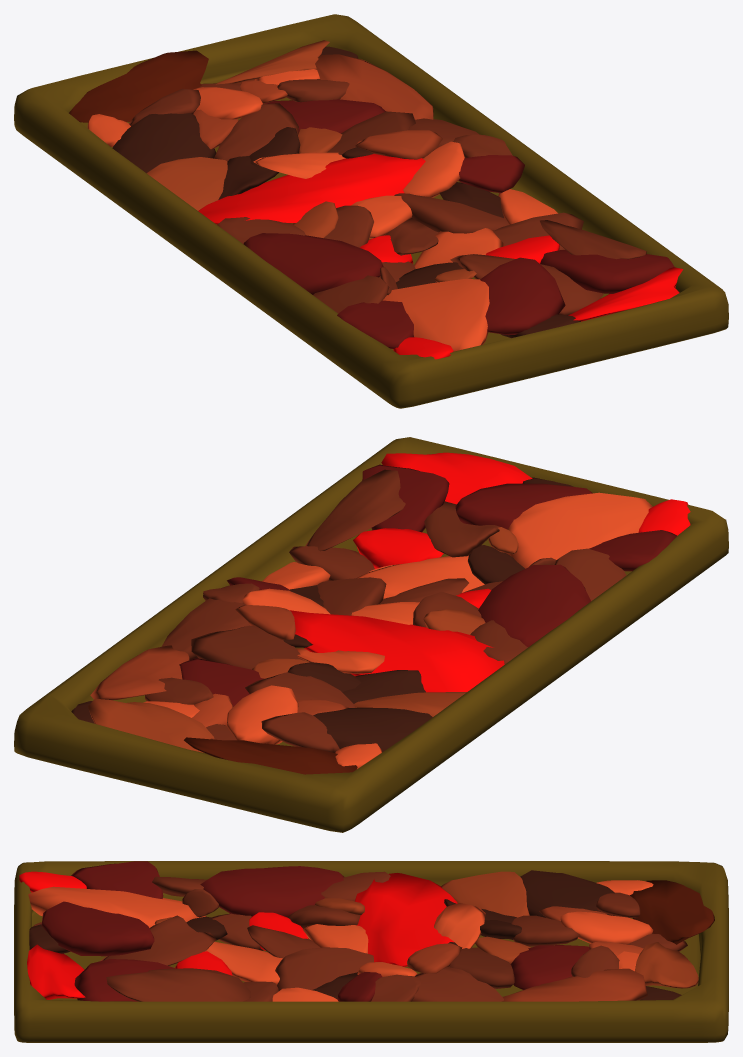
Rendered from RedRockPit.fbx.
The picture shows the model from 3 angles, top to bottom: view 1: azimuth 30°, elevation 25°; view 2: azimuth 150°, elevation 25°; view 3: azimuth 270°, elevation 25°; orthographic projection. The views are drawn at different scales.
Parts seen in each view (by area): view 1: Pit, Variant3.005, Variant1.007, Variant2.007, Variant3.004, Variant2.006, Variant2.010, Variant3.002, Variant1.006, Variant1.010, Variant1.023, Variant1.011 (+36 smaller); view 2: Pit, Variant3.005, Variant1.007, Variant2.007, Variant3.011, Variant3, Variant3.001, Variant3.004, Variant2.006, Variant2.010, Variant3.002, Variant1.008 (+32 smaller); view 3: Pit, Variant3.005, Variant2.007, Variant2.006, Variant3.011, Variant3.004, Variant1.007, Variant3.002, Variant1.023, Variant1.010, Variant2.010, Variant3.008 (+42 smaller).
Part boxes in pixels (x1=…): Pit: x1=14, y1=14, x2=728, y2=408; Variant3.005: x1=198, y1=154, x2=425, y2=224; Variant1.007: x1=382, y1=279, x2=489, y2=351; Variant2.007: x1=243, y1=233, x2=383, y2=294; Variant3.004: x1=69, y1=50, x2=208, y2=122; Variant2.006: x1=480, y1=257, x2=565, y2=335; Variant2.010: x1=112, y1=113, x2=215, y2=173; Variant3.002: x1=315, y1=54, x2=433, y2=119; Variant1.006: x1=540, y1=250, x2=674, y2=293; Variant1.010: x1=147, y1=157, x2=227, y2=210; Variant1.023: x1=394, y1=193, x2=508, y2=233; Variant1.011: x1=213, y1=103, x2=298, y2=161; Pit: x1=14, y1=437, x2=728, y2=832; Variant3.005: x1=289, y1=610, x2=504, y2=692; Variant1.007: x1=507, y1=492, x2=652, y2=568; Variant2.007: x1=478, y1=564, x2=590, y2=647; Variant3.011: x1=305, y1=469, x2=405, y2=551; Variant3: x1=381, y1=452, x2=532, y2=504; Variant3.001: x1=87, y1=698, x2=214, y2=752; Variant3.004: x1=184, y1=737, x2=357, y2=774; Variant2.006: x1=455, y1=483, x2=592, y2=529; Variant2.010: x1=313, y1=707, x2=432, y2=752; Variant3.002: x1=90, y1=645, x2=189, y2=700; Variant1.008: x1=191, y1=625, x2=304, y2=669; Pit: x1=14, y1=861, x2=728, y2=1042; Variant3.005: x1=355, y1=873, x2=457, y2=966; Variant2.007: x1=200, y1=866, x2=344, y2=917; Variant2.006: x1=41, y1=901, x2=154, y2=956; Variant3.011: x1=106, y1=968, x2=250, y2=1001; Variant3.004: x1=630, y1=880, x2=714, y2=944; Variant1.007: x1=28, y1=886, x2=206, y2=927; Variant3.002: x1=502, y1=968, x2=647, y2=1001; Variant1.023: x1=275, y1=947, x2=373, y2=990; Variant1.010: x1=441, y1=871, x2=529, y2=917; Variant2.010: x1=520, y1=870, x2=614, y2=917; Variant3.008: x1=100, y1=915, x2=216, y2=965.
Size of the model in its own units: 200 by 32.95 by 400.
